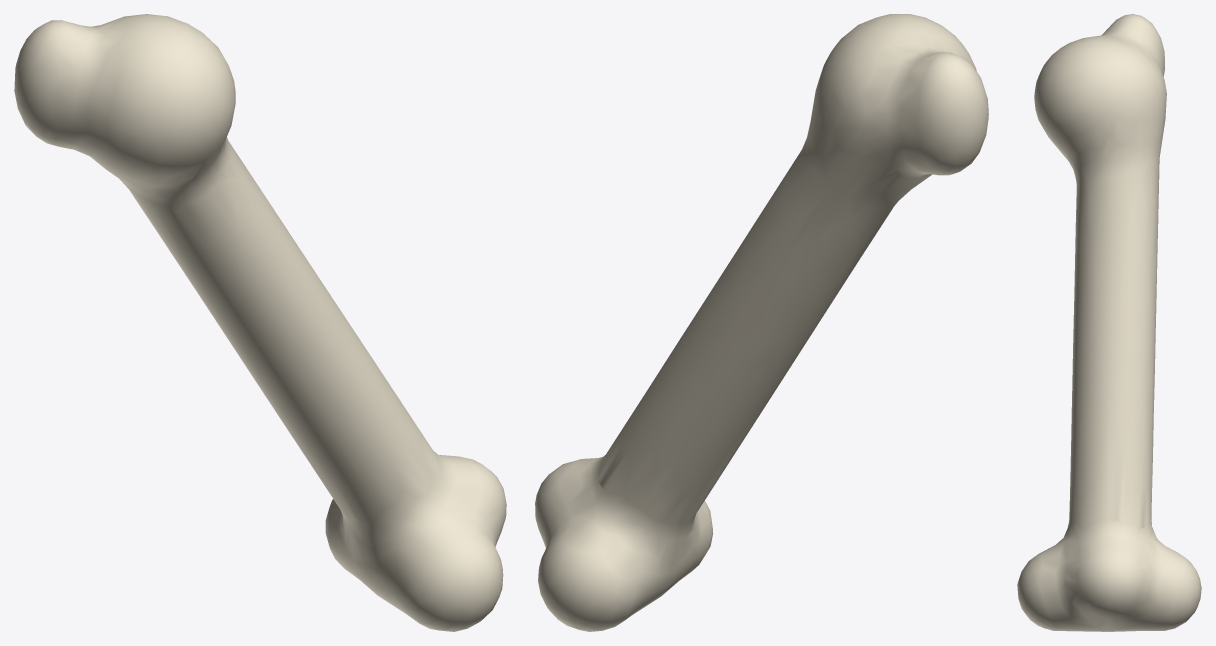
The model's file is humerus_r.glb.
3 renders of one model, left to right at view 1: azimuth 30°, elevation 25°; view 2: azimuth 150°, elevation 25°; view 3: azimuth 270°, elevation 25°, orthographic. The views are drawn at different scales.
Parts seen in each view (by area): view 1: geometry_0; view 2: geometry_0; view 3: geometry_0.
Part boxes in pixels (x1,y1,x2,y2): geometry_0: (14, 14, 506, 631); geometry_0: (535, 14, 988, 631); geometry_0: (1017, 14, 1201, 631).
Size of the model in its own units: 0.4884 by 0.6538 by 0.2243.
